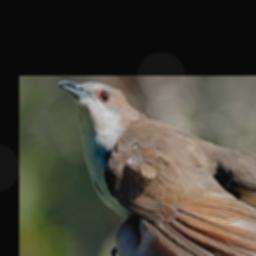Cuckoo: (57, 80, 256, 256)
